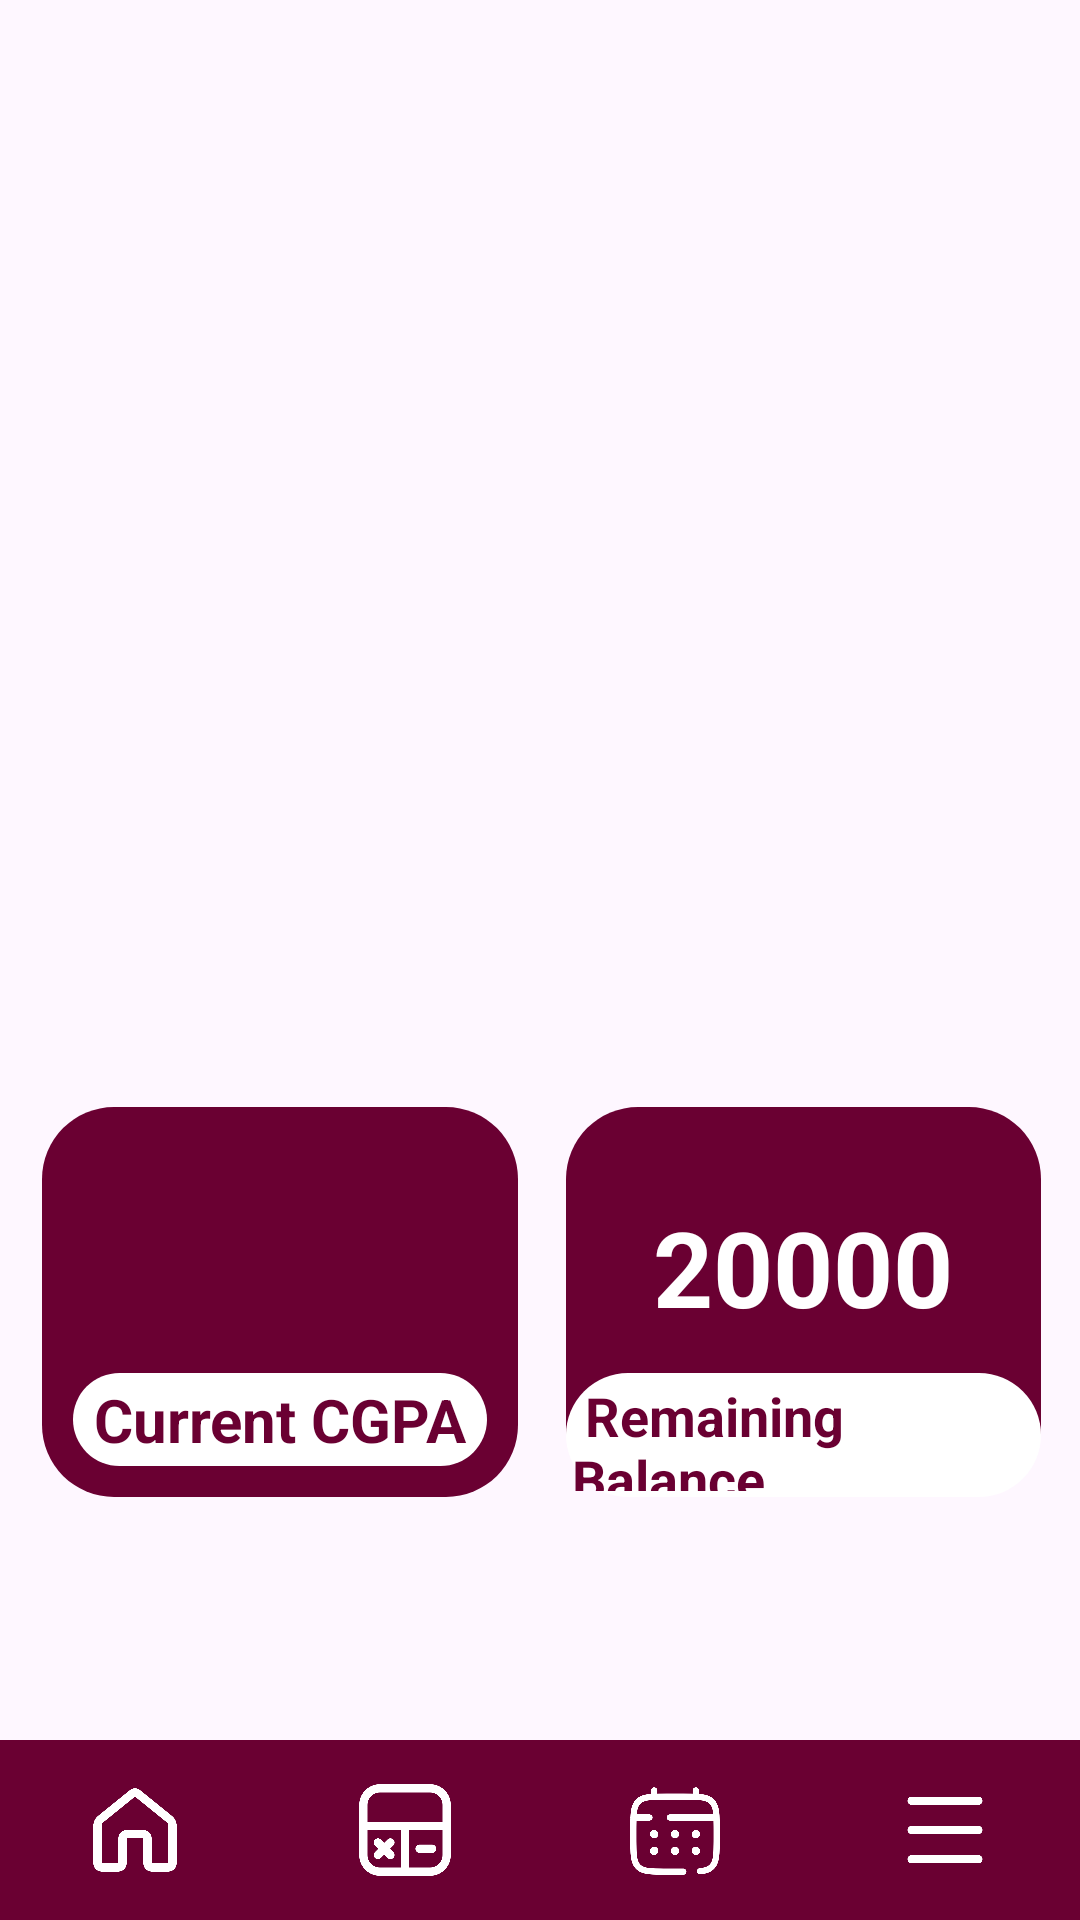

Screen size 1080*1920. Icon name, then its box in pixels as detection(x1, y1, x2, y2):
calc: detection(359, 1784, 451, 1876)
calendar: detection(630, 1787, 720, 1875)
home: detection(93, 1788, 177, 1872)
menu: detection(907, 1797, 983, 1863)
